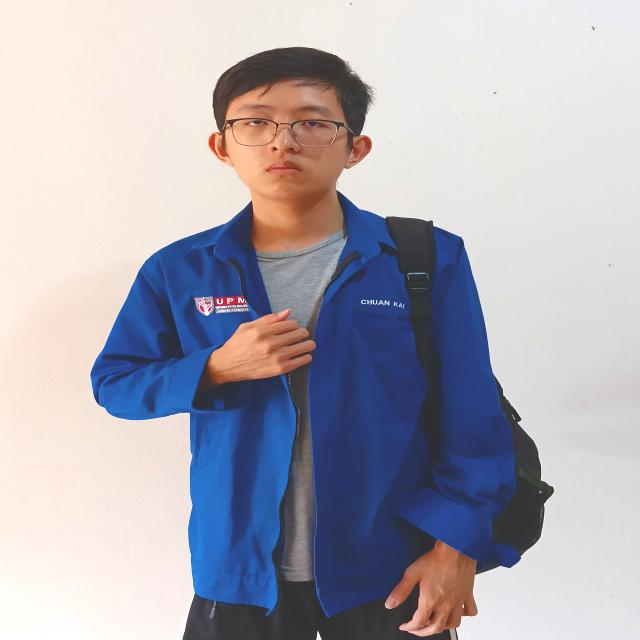person_with_labcoat: (91, 47, 553, 640)
